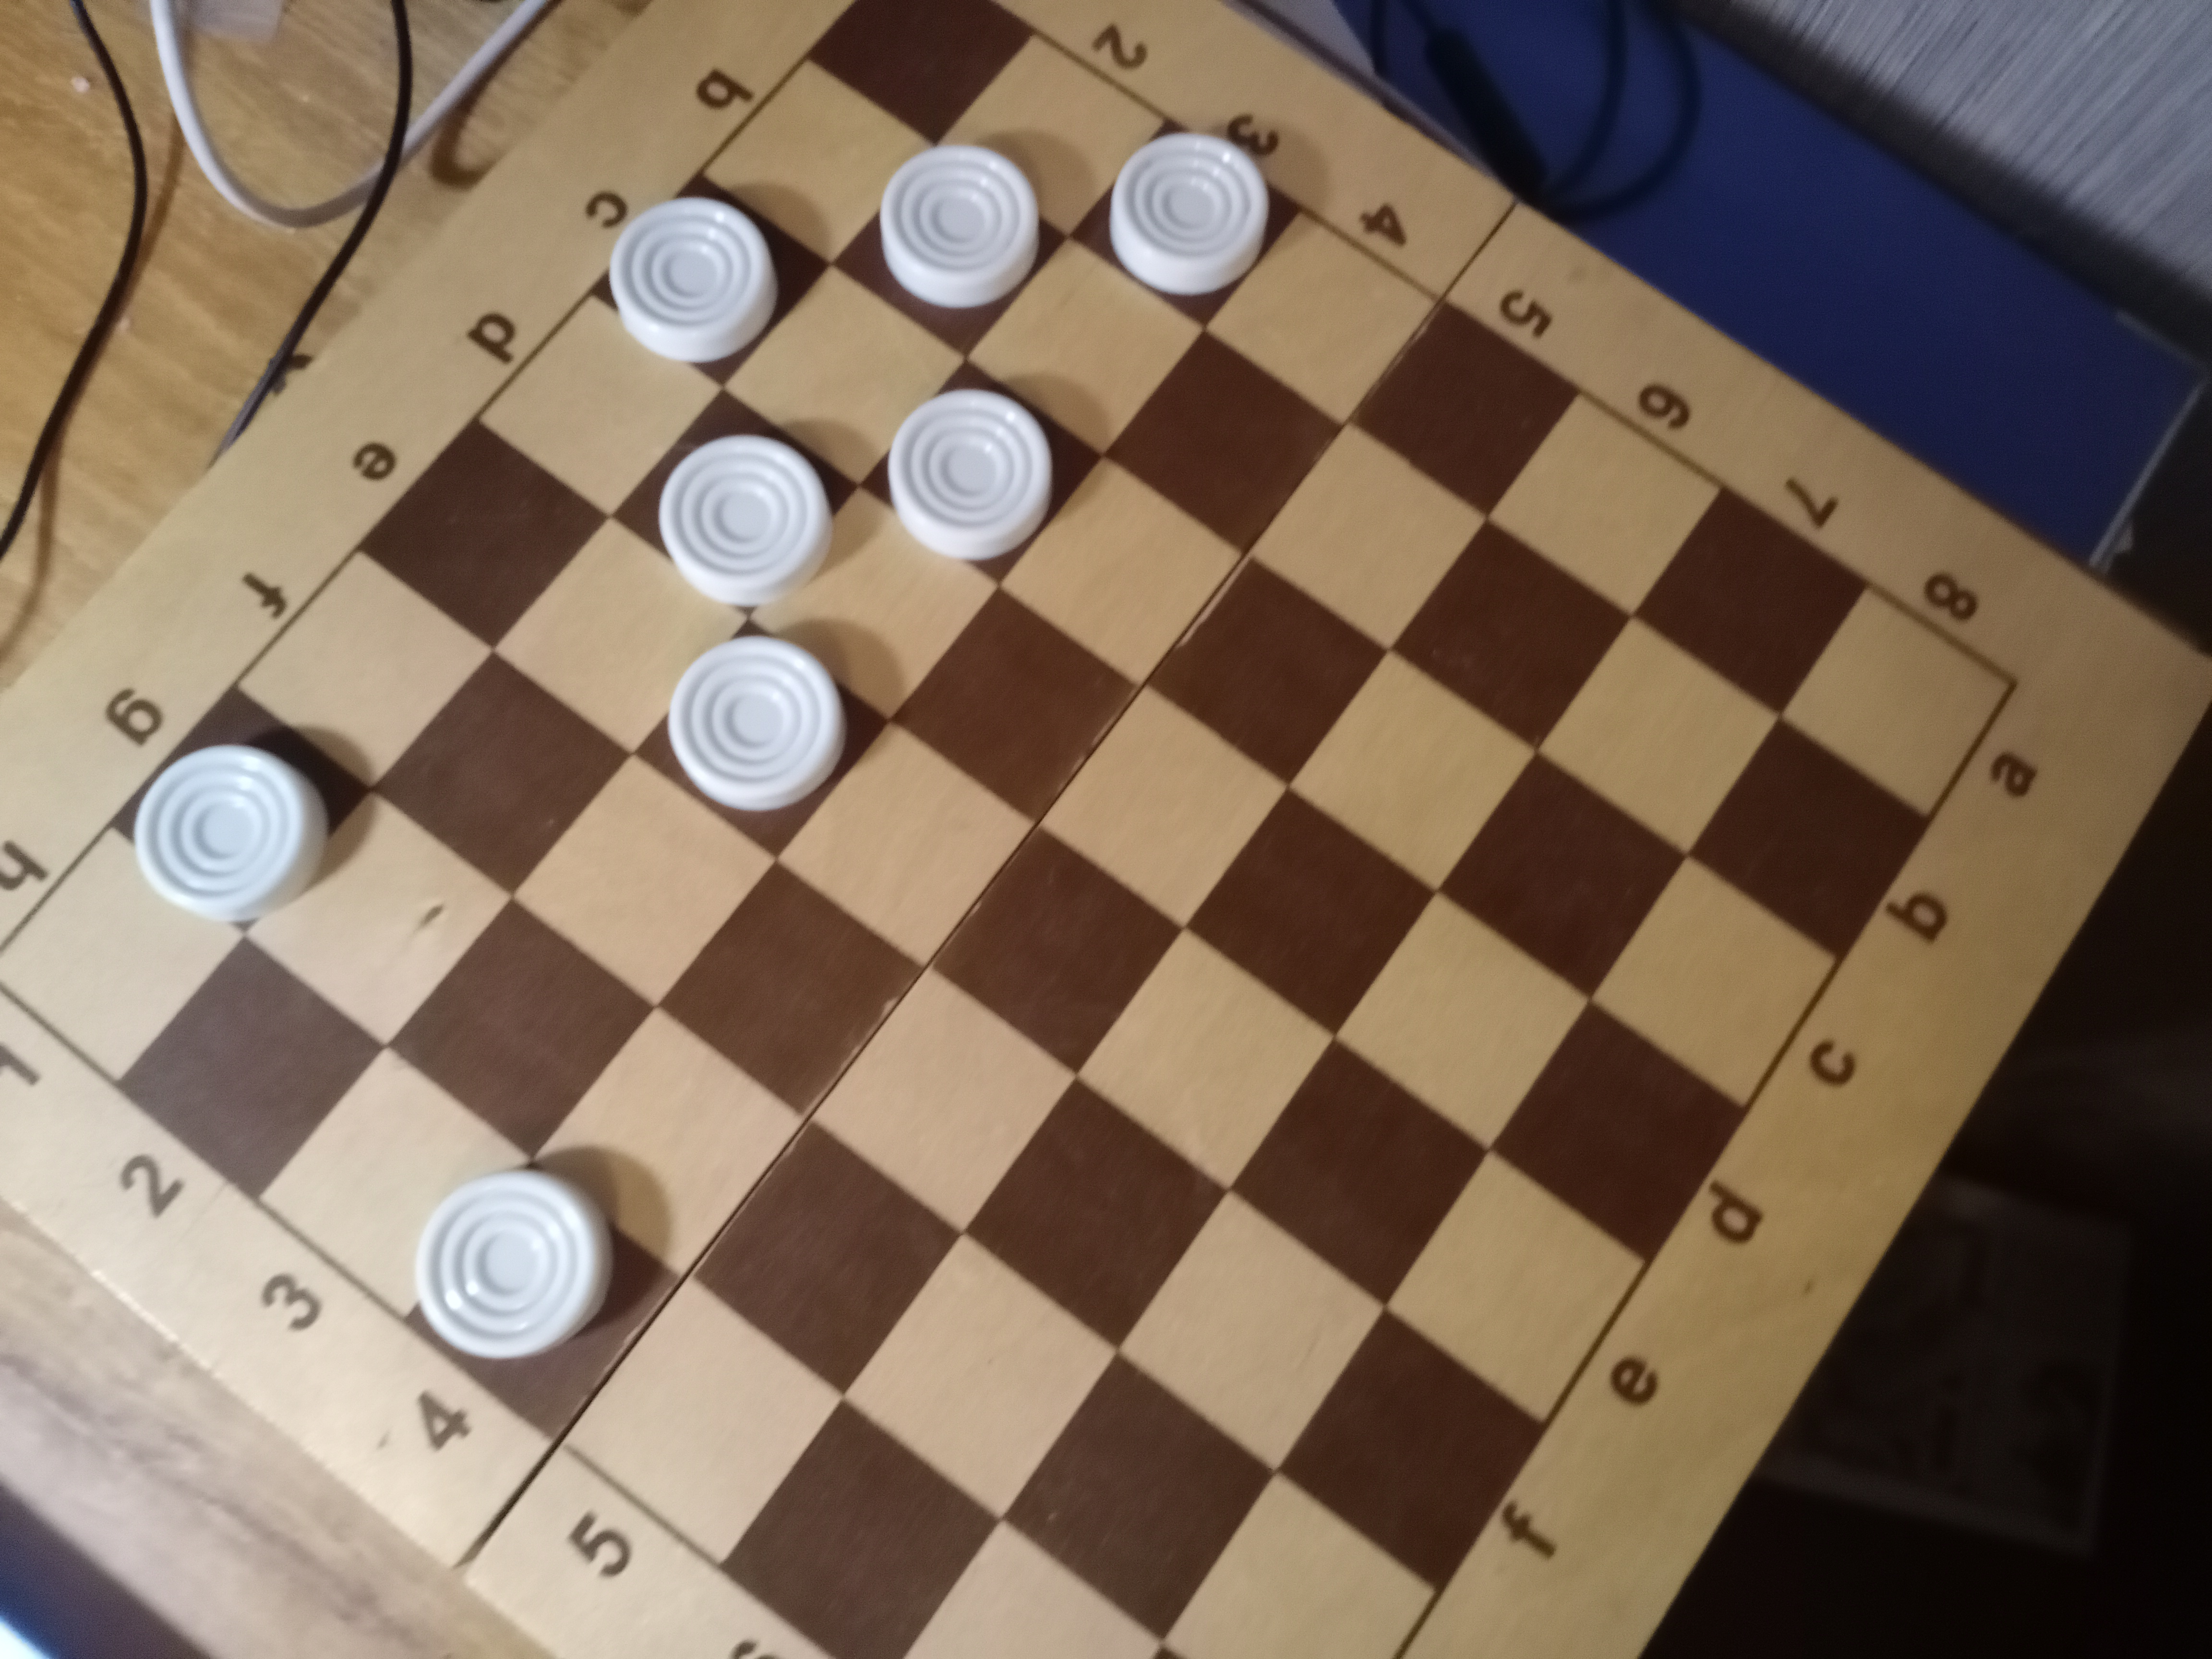White_Draught: (406, 1162, 679, 1439), (632, 619, 892, 861), (115, 690, 369, 936), (610, 390, 860, 620), (860, 361, 1104, 587), (596, 171, 831, 390), (833, 145, 1069, 361), (1069, 115, 1299, 326)
